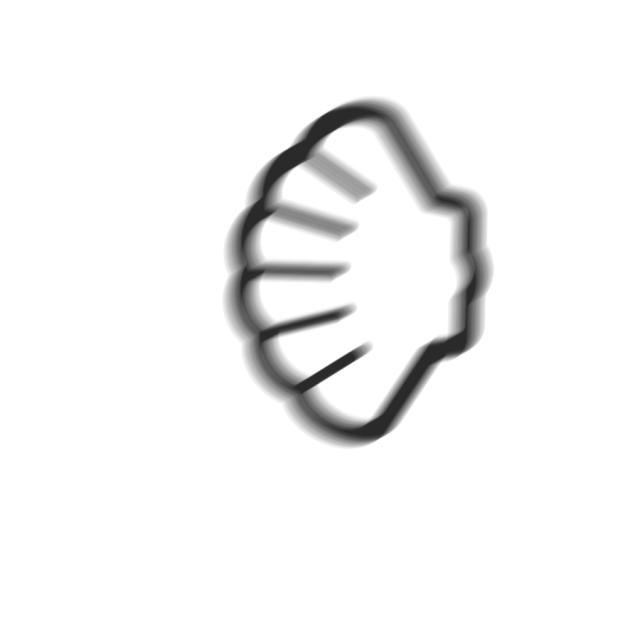shell: (216, 92, 501, 458)
